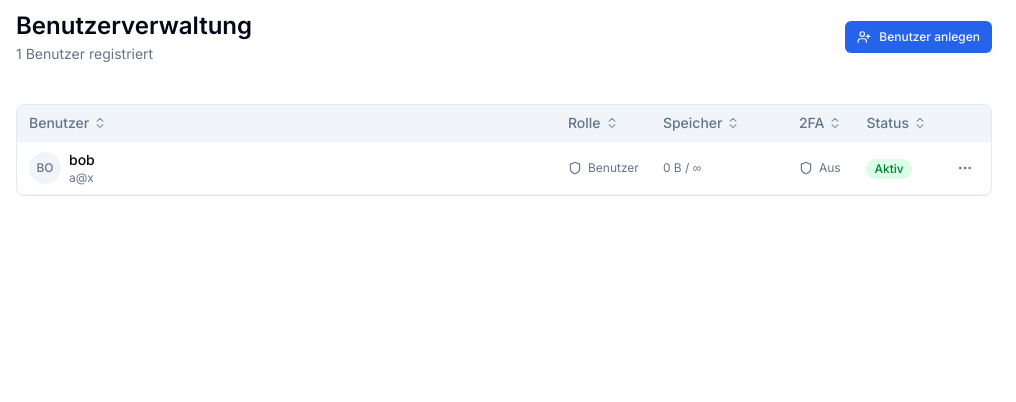
Test: AdminPage — Rolle (via Aktionen-Menü) › Entsperren-Eintrag ruft unlockUser und zeigt eine Erfolgsmeldung
Click the button named "Aktionen": (965, 168) [951,154,979,182]
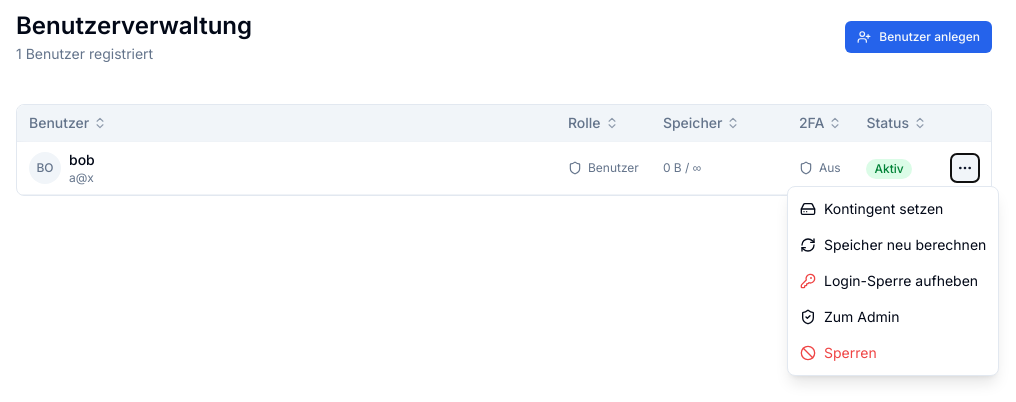
Click the menu item "Login-Sperre aufheben": (893, 281) [788,263,998,299]
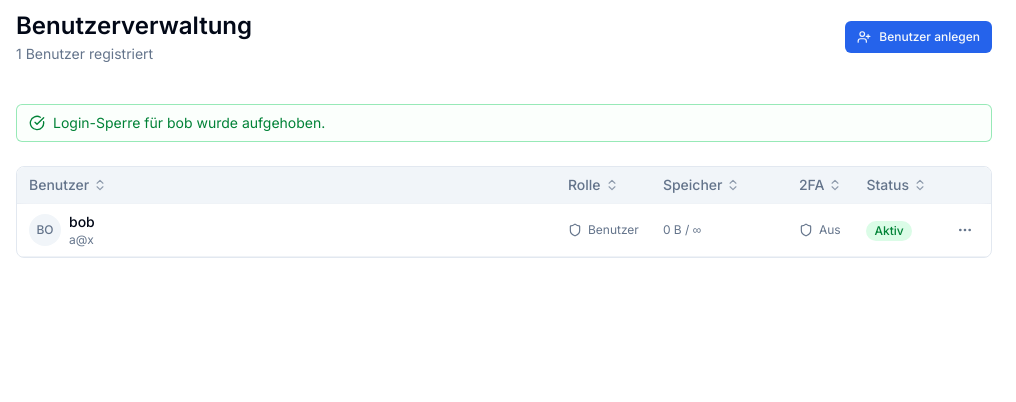
Now the text "Login-Sperre für bob wurde aufgehoben." is shown, box [16,104,992,142]
